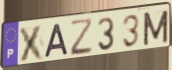3: (97, 16, 115, 52), (122, 14, 140, 48)
A: (43, 23, 70, 60)
M: (142, 8, 170, 47)
X: (18, 23, 46, 63)
Z: (69, 17, 94, 58)
